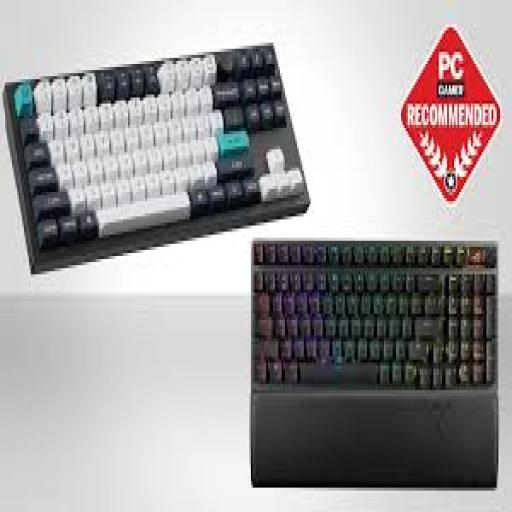keyboard: (5, 43, 309, 271), (251, 238, 502, 485)
